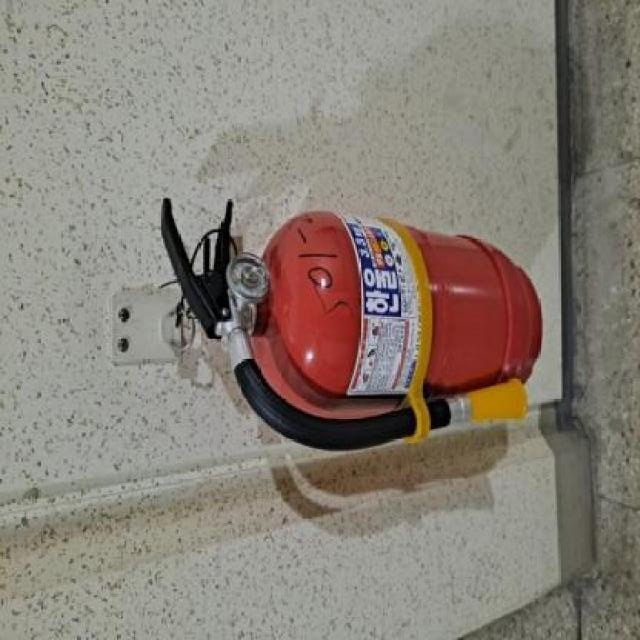fire extinguisher: (160, 196, 543, 452)
